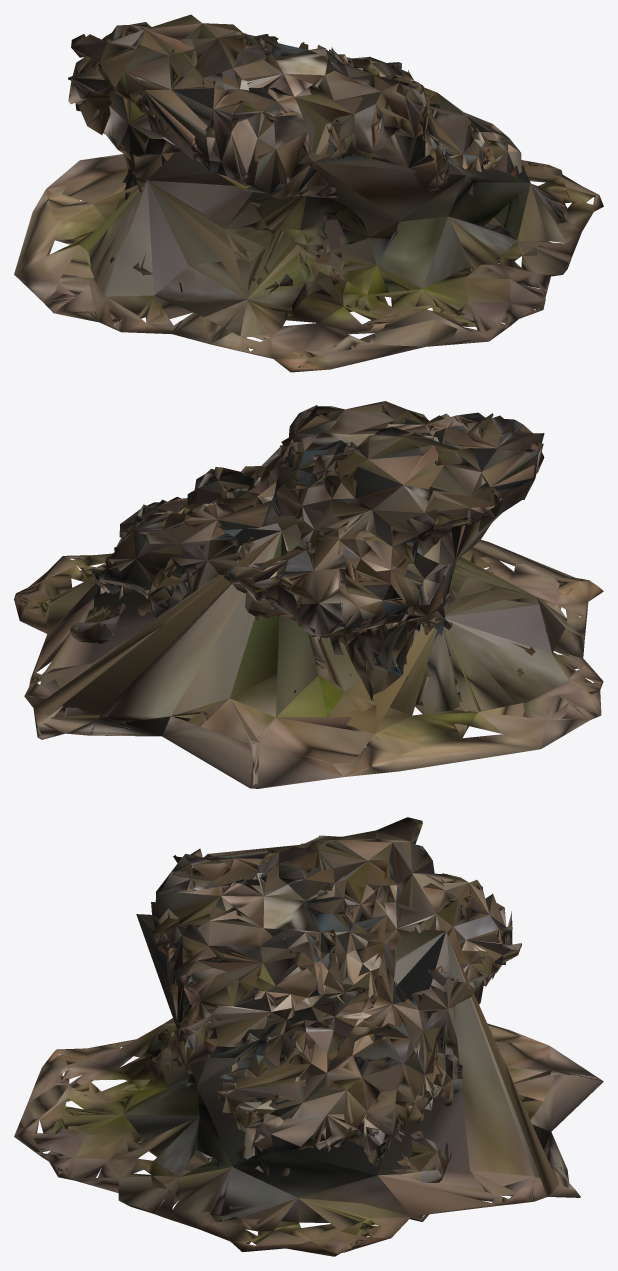
The model's file is fels-brocken.glb.
3 views of the same model, one above another, from view 1: azimuth 30°, elevation 25°; view 2: azimuth 150°, elevation 25°; view 3: azimuth 270°, elevation 25° (orthographic). The views are drawn at different scales.
Parts seen in each view (by area): view 1: Mesh_0; view 2: Mesh_0; view 3: Mesh_0.
Boxes of the visible parts, left/top/right/bottom form: Mesh_0: left=14, top=14, right=603, bottom=372; Mesh_0: left=14, top=401, right=603, bottom=788; Mesh_0: left=14, top=817, right=603, bottom=1256.
Bounding box in the file's own units: 1.95 × 0.8449 × 1.86.
Materials: 1 (1 with a texture image).
